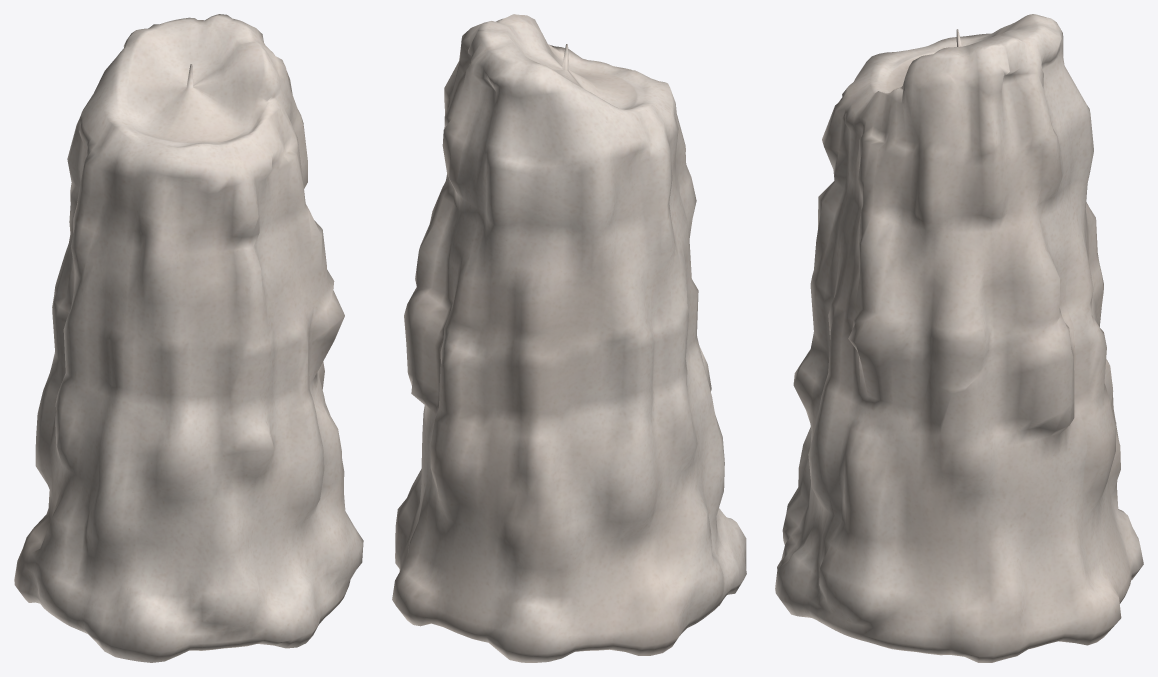
File: CANDLEFIN.fbx
The picture shows the model from 3 angles, left to right: view 1: azimuth 30°, elevation 25°; view 2: azimuth 150°, elevation 25°; view 3: azimuth 270°, elevation 25°; orthographic projection. The views are drawn at different scales.
Parts seen in each view (by area): view 1: pCylinder2; view 2: pCylinder2; view 3: pCylinder2.
Part boxes in pixels (box(x1,y1,x2,y2)): pCylinder2: box(14, 14, 363, 662); pCylinder2: box(392, 14, 746, 662); pCylinder2: box(775, 14, 1143, 662).
Size of the model in its own units: 1.28 by 2.29 by 1.3.
1 material, 1 textured.
